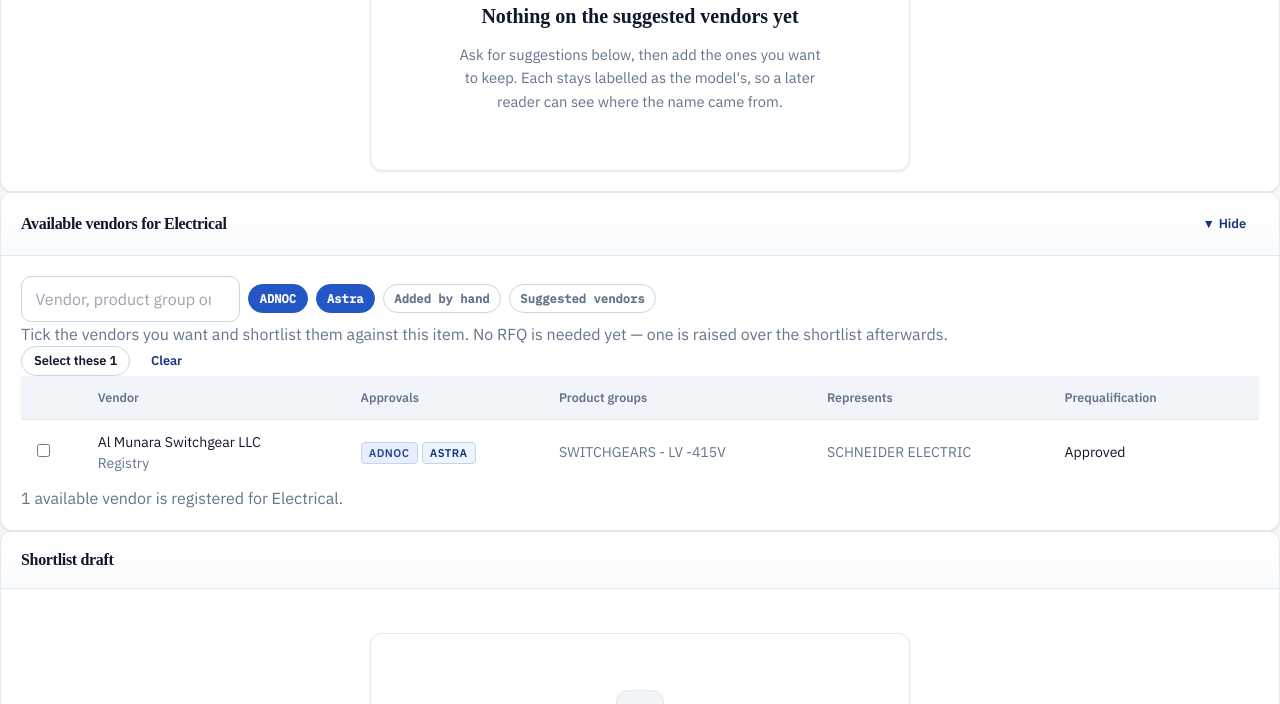
ItemDetail › clears the selection
(page scrolled)
Click the button "Select these 1" at (76, 361), box 21,346 -> 130,376
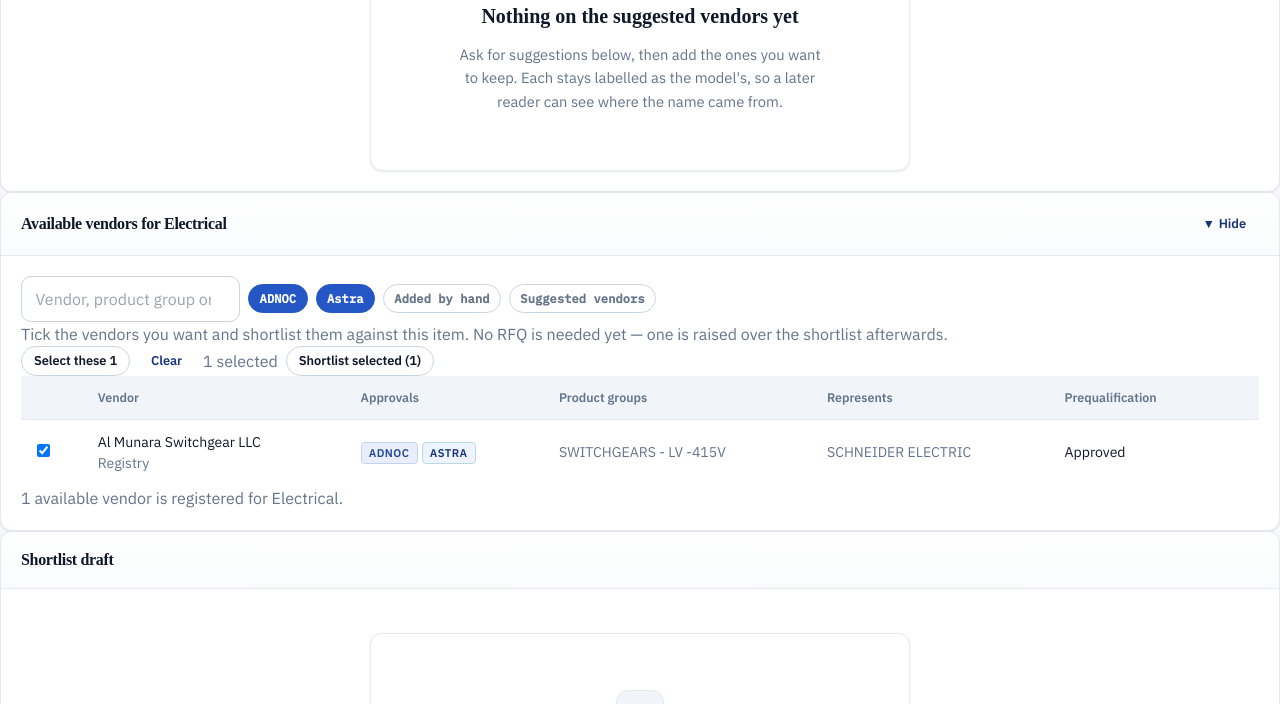
Click the button "Clear" at (166, 361), box 138,346 -> 195,376
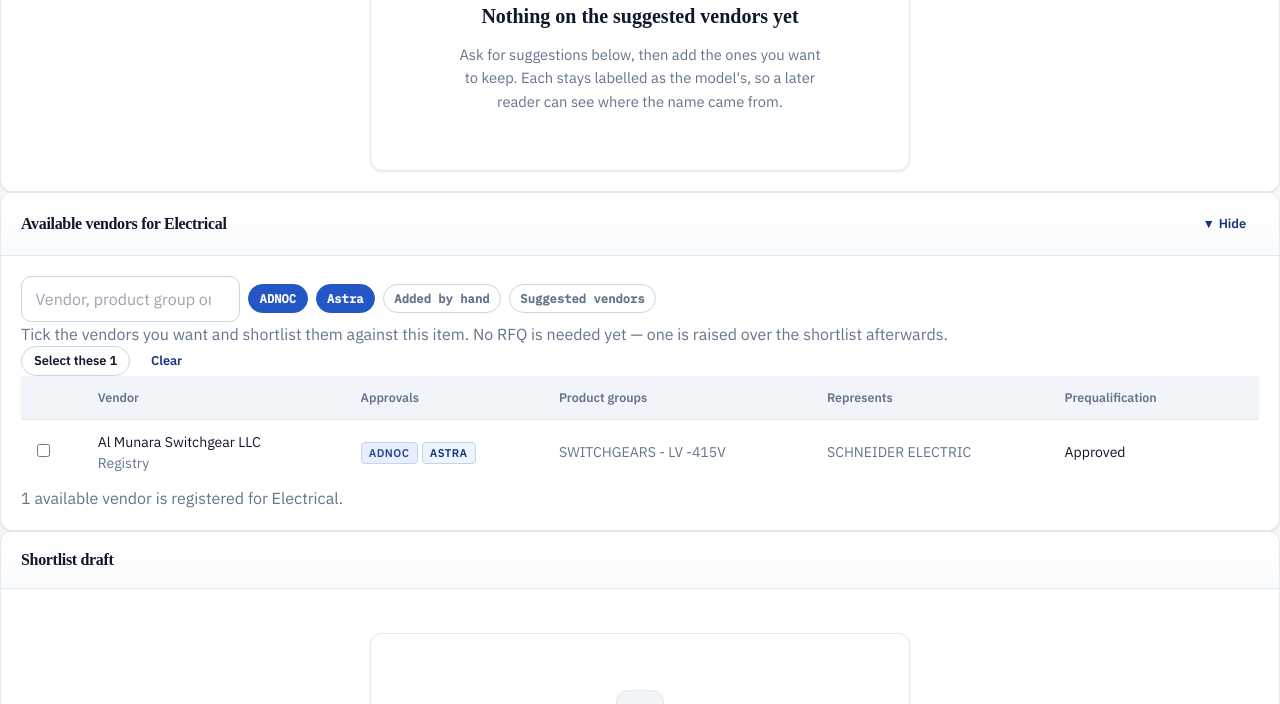
Expected: the text "selected" is gone
